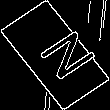N_SW: (20, 24, 90, 86)
